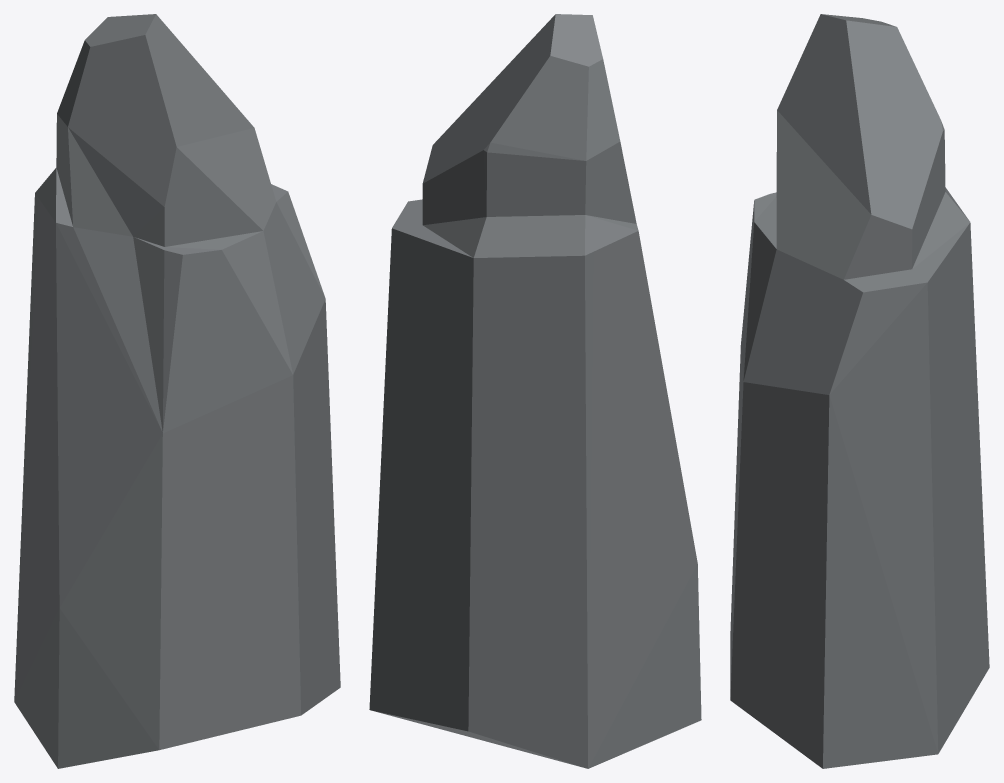
The model's file is Rock_Round_l_06.fbx.
The picture shows the model from 3 angles, left to right: view 1: azimuth 30°, elevation 25°; view 2: azimuth 150°, elevation 25°; view 3: azimuth 270°, elevation 25°; orthographic projection. The views are drawn at different scales.
Visible parts, largest first — view 1: Rock_Round_l_06; view 2: Rock_Round_l_06; view 3: Rock_Round_l_06.
Boxes of the visible parts, x1,y1,x2,y2 form: Rock_Round_l_06: (14, 14, 340, 768); Rock_Round_l_06: (369, 14, 701, 768); Rock_Round_l_06: (730, 14, 989, 768).
Bounding box in the file's own units: 1.02 × 2.34 × 0.8211.
